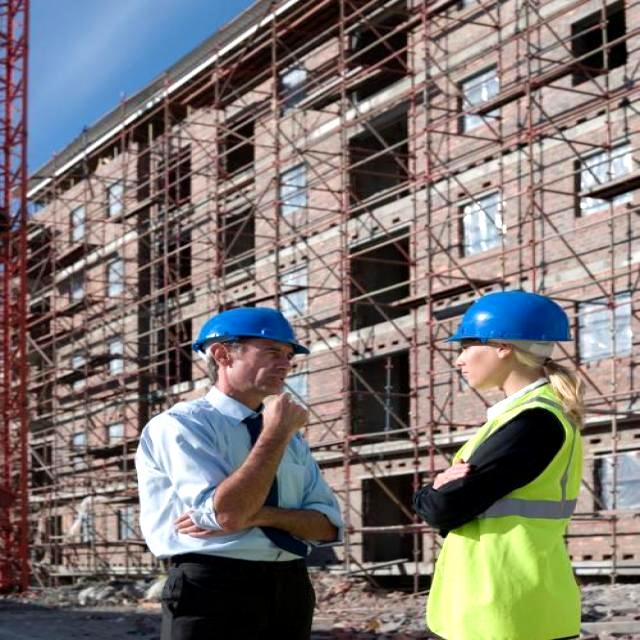hard_hat: (444, 292, 571, 358), (192, 307, 314, 359)
person: (137, 308, 342, 639), (415, 291, 582, 639)
